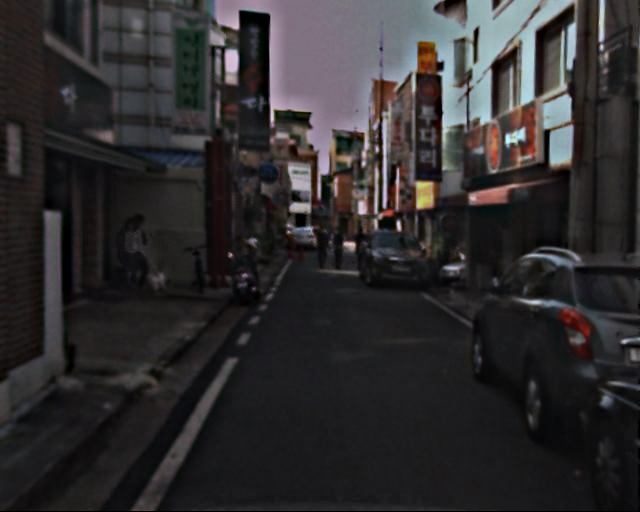person: (119, 215, 149, 289), (351, 228, 370, 275), (314, 225, 332, 269), (330, 229, 347, 271)
